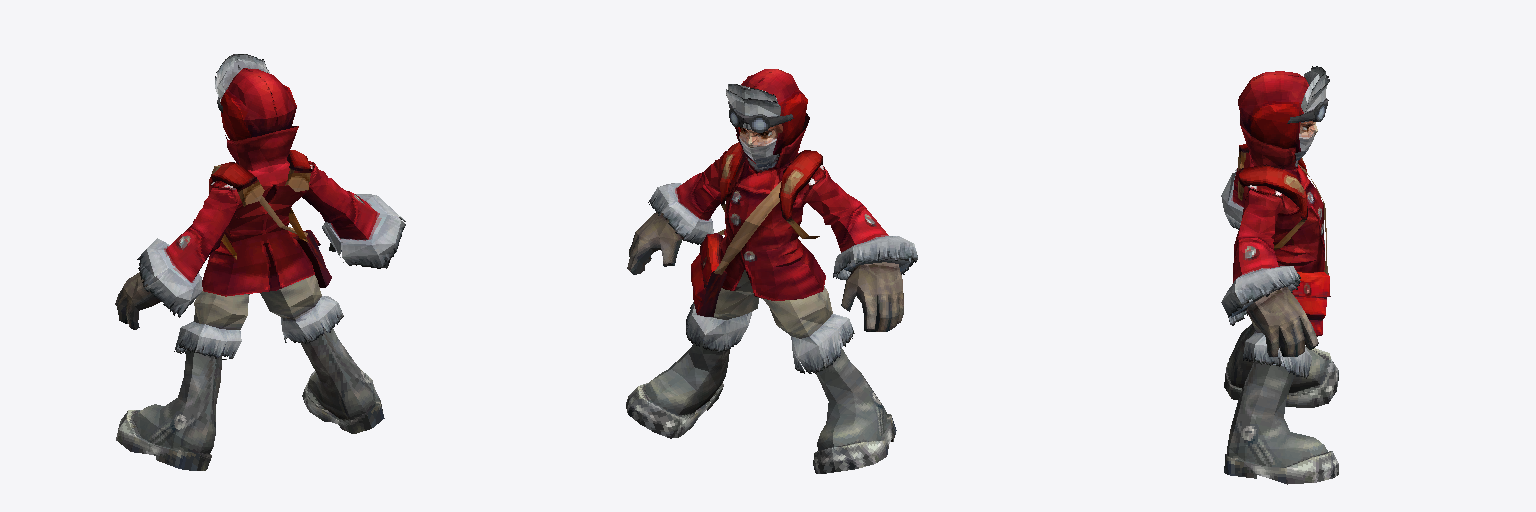
3 views of the same model, side by side, from view 1: azimuth 30°, elevation 25°; view 2: azimuth 150°, elevation 25°; view 3: azimuth 270°, elevation 25° (orthographic).
Parts seen in each view (by area): view 1: WF_GRUNT_MESH; view 2: WF_GRUNT_MESH; view 3: WF_GRUNT_MESH.
Boxes of the visible parts, x1=… form: WF_GRUNT_MESH: x1=115, y1=54, x2=405, y2=470; WF_GRUNT_MESH: x1=626, y1=69, x2=917, y2=473; WF_GRUNT_MESH: x1=1221, y1=66, x2=1338, y2=484.
Bounding box in the file's own units: 1.39 × 1.83 × 0.525.
2 materials, 2 textured.